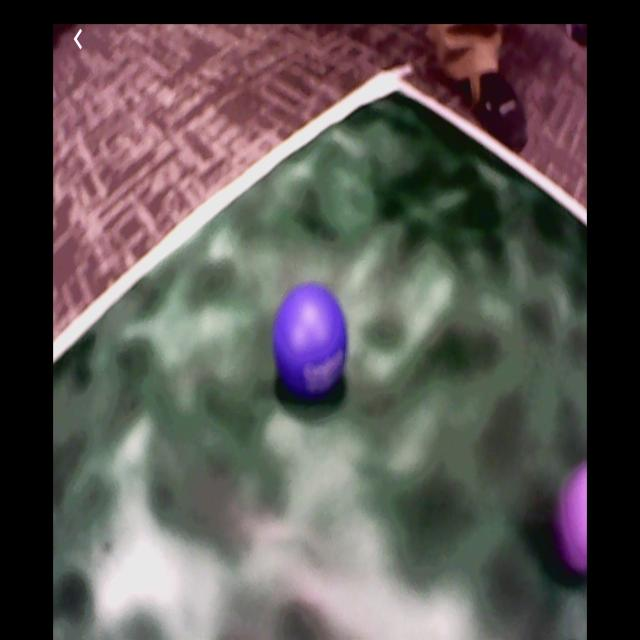ball: (274, 283, 345, 399), (558, 460, 586, 572)
